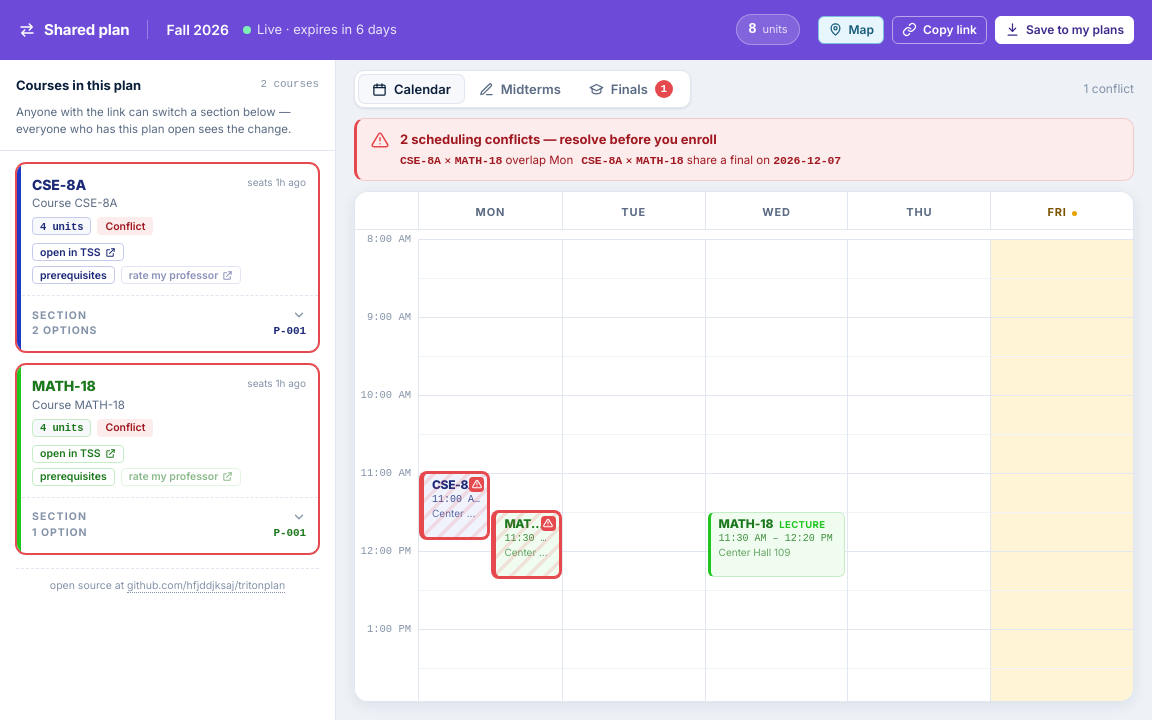
it: SharedPlanPage: Save to my plans › a save that fails keeps the dialog open with an error, and Save tries again
Click the button "Save to my plans": (1064, 30) [995, 16, 1134, 44]
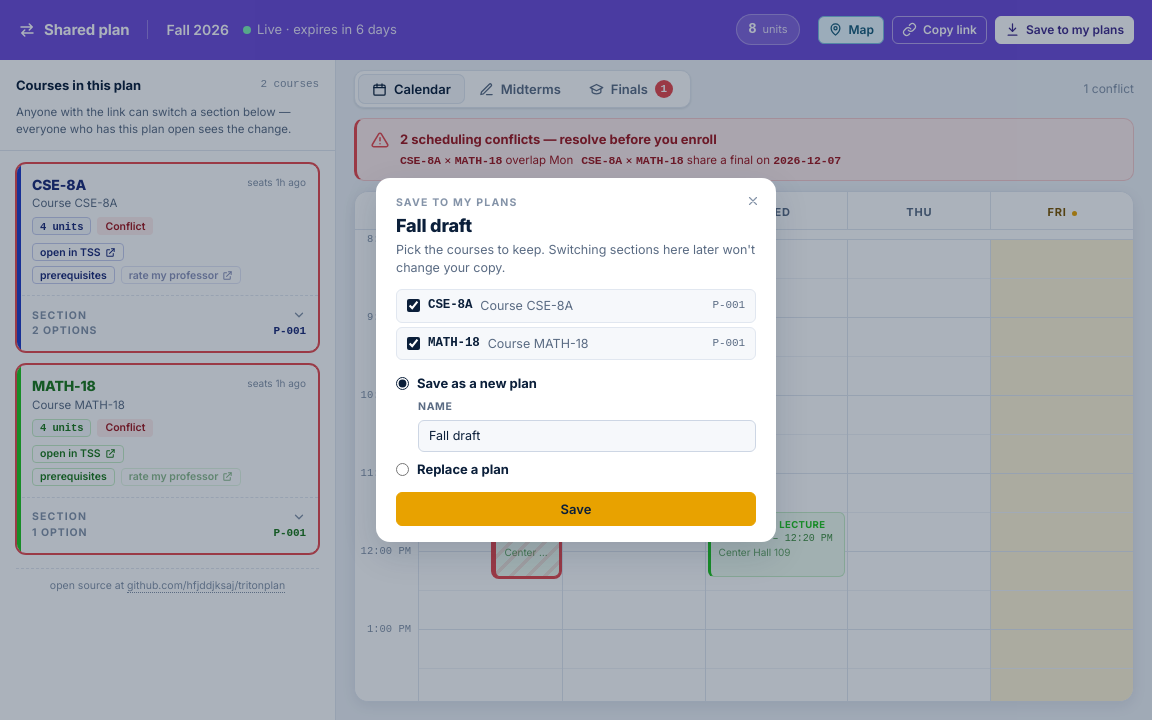
Click the button "Save": (576, 509) [396, 492, 756, 526]
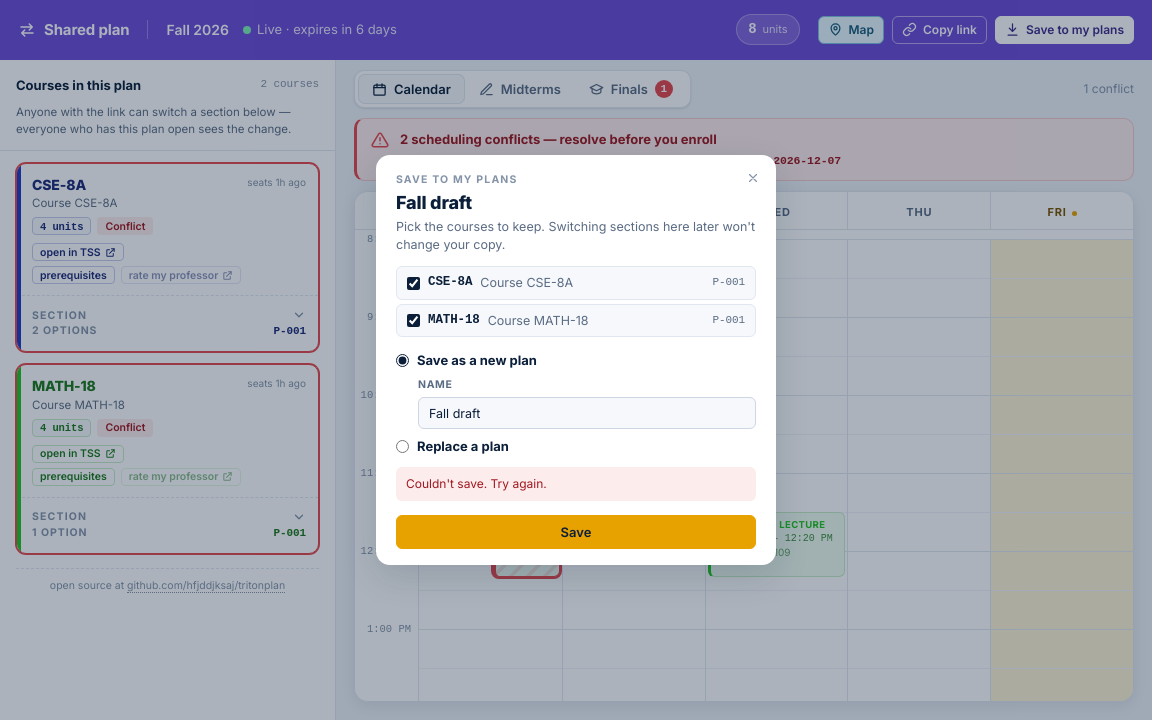
Expected: the message "Couldn't save. Try again." is shown, [396, 467, 756, 501]
Click the button "Save": (576, 532) [396, 515, 756, 549]
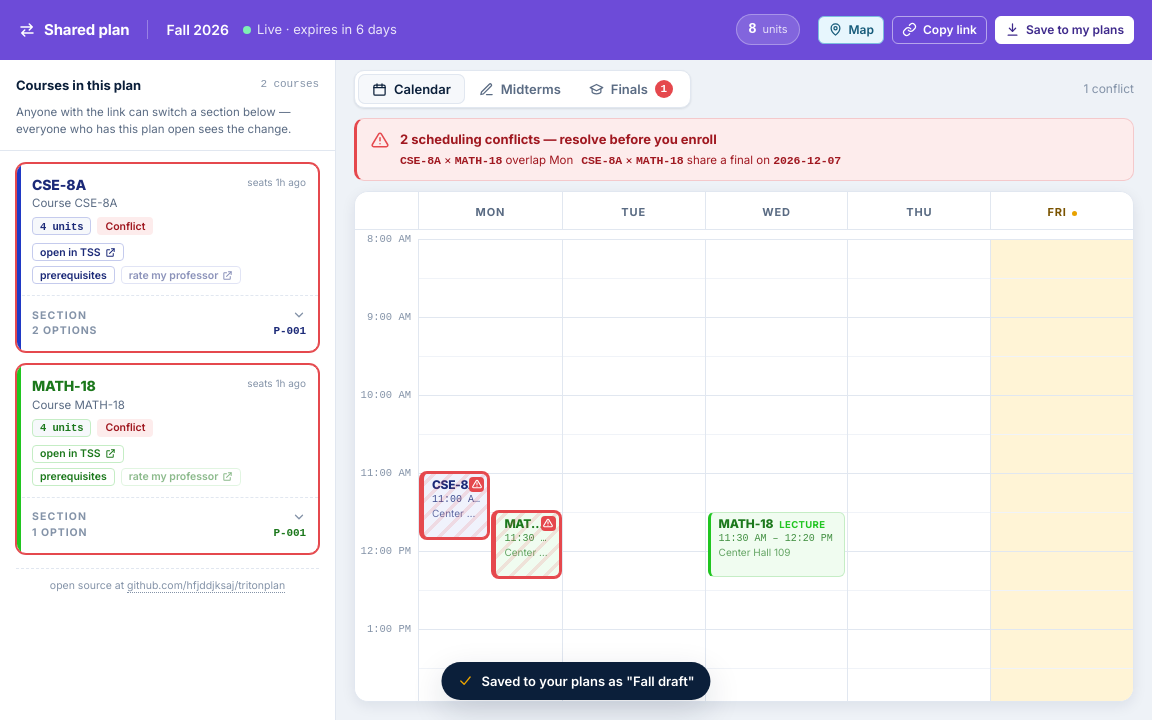
Expected: the dialog is gone
Expected: the message with class "toast" reads "Saved to your plans as \"Fall draft\"", [482, 673, 695, 689]
